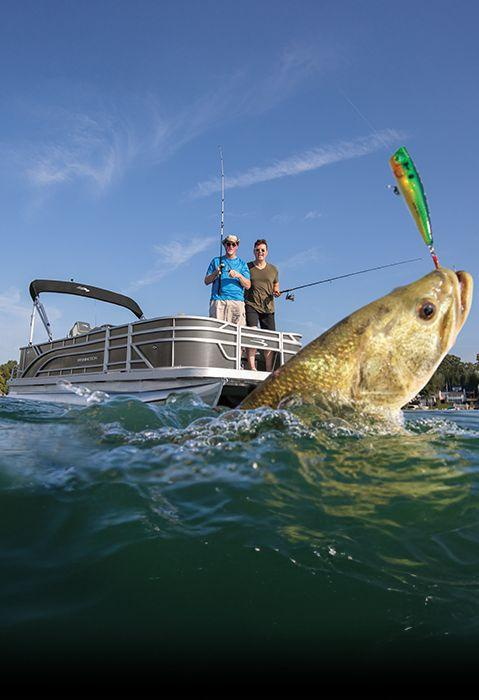fishing boat: (5, 142, 309, 409)
